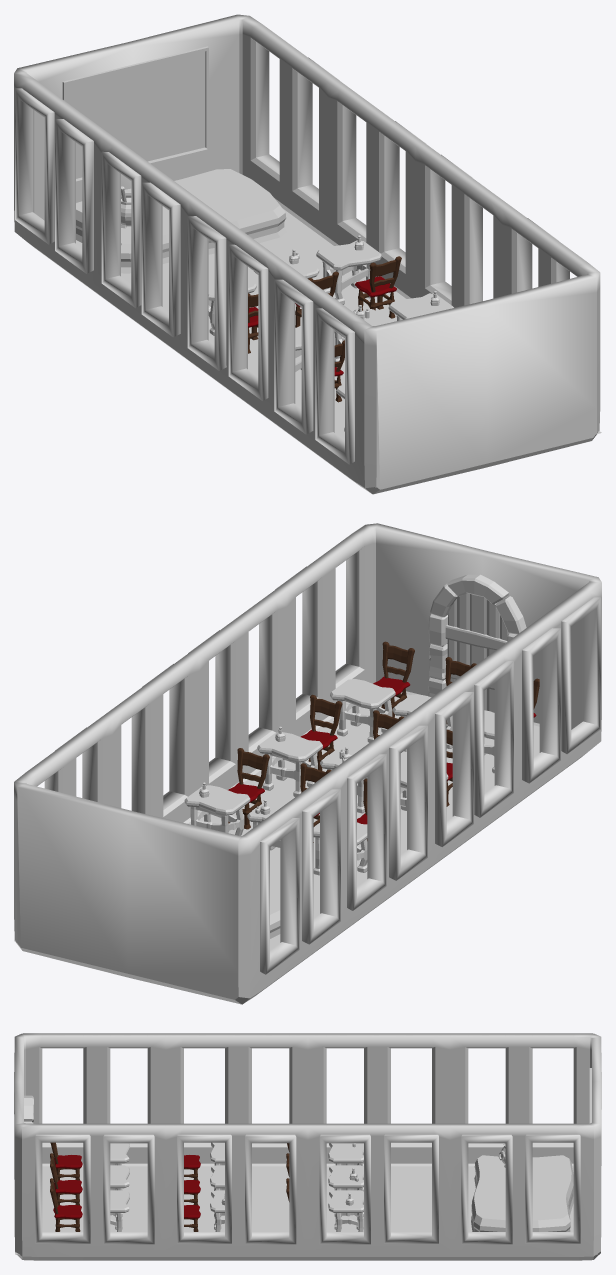
Rendered from CLASSROOM.fbx.
3 renders of one model, top to bottom at view 1: azimuth 30°, elevation 25°; view 2: azimuth 150°, elevation 25°; view 3: azimuth 270°, elevation 25°, orthographic. The views are drawn at different scales.
Visible parts, largest first — view 1: Cube.067, Cube.072, Cube.070, Cube.074, Cube.069, Cube.066, Cube.071, Cube.068; view 2: Cube.067, Cube.066, Cube.069, Cube.074, Cube.068, Cube.078, Cube.087, Cube.076; view 3: Cube.067, Cube.074, Cube.070, Cube.069, Cube.066, Cube.068.
Part boxes in pixels (box(x1,y1,x2,y2)): Cube.067: box(14, 14, 600, 494); Cube.072: box(67, 51, 205, 178); Cube.070: box(76, 169, 286, 273); Cube.074: box(76, 208, 601, 487); Cube.069: box(208, 240, 453, 399); Cube.066: box(248, 256, 401, 402); Cube.071: box(62, 46, 210, 184); Cube.068: box(208, 261, 402, 431); Cube.067: box(14, 523, 601, 1004); Cube.066: box(228, 641, 539, 842); Cube.069: box(184, 679, 494, 845); Cube.074: box(14, 693, 539, 950); Cube.068: box(190, 699, 494, 875); Cube.078: box(428, 574, 526, 697); Cube.087: box(447, 593, 509, 712); Cube.076: box(445, 624, 507, 689); Cube.067: box(14, 1033, 601, 1260); Cube.074: box(15, 1166, 597, 1254); Cube.070: box(471, 1155, 573, 1231); Cube.069: box(110, 1142, 363, 1212); Cube.066: box(50, 1142, 289, 1231); Cube.068: box(110, 1162, 363, 1231).
Bounding box in the file's own units: 337 × 213 × 830.
